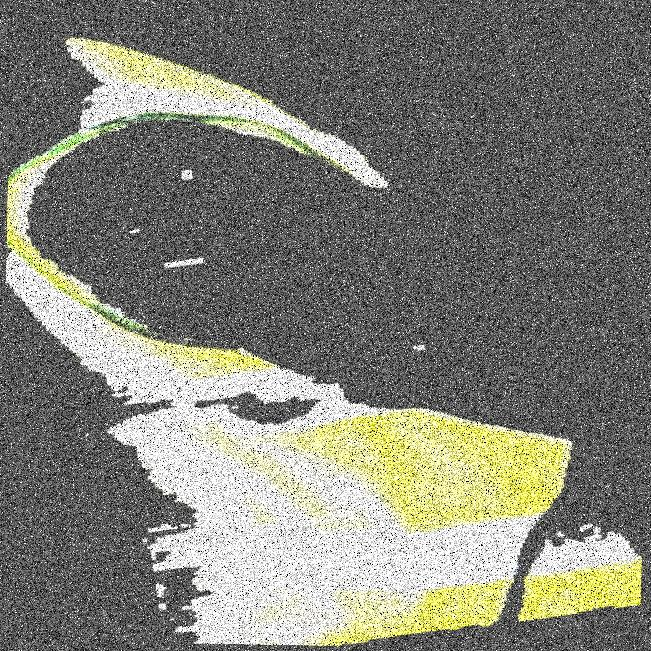Colete: (14, 135, 599, 650)
